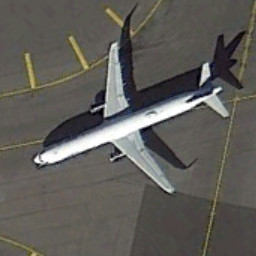Airplane: (25, 33, 236, 201)
